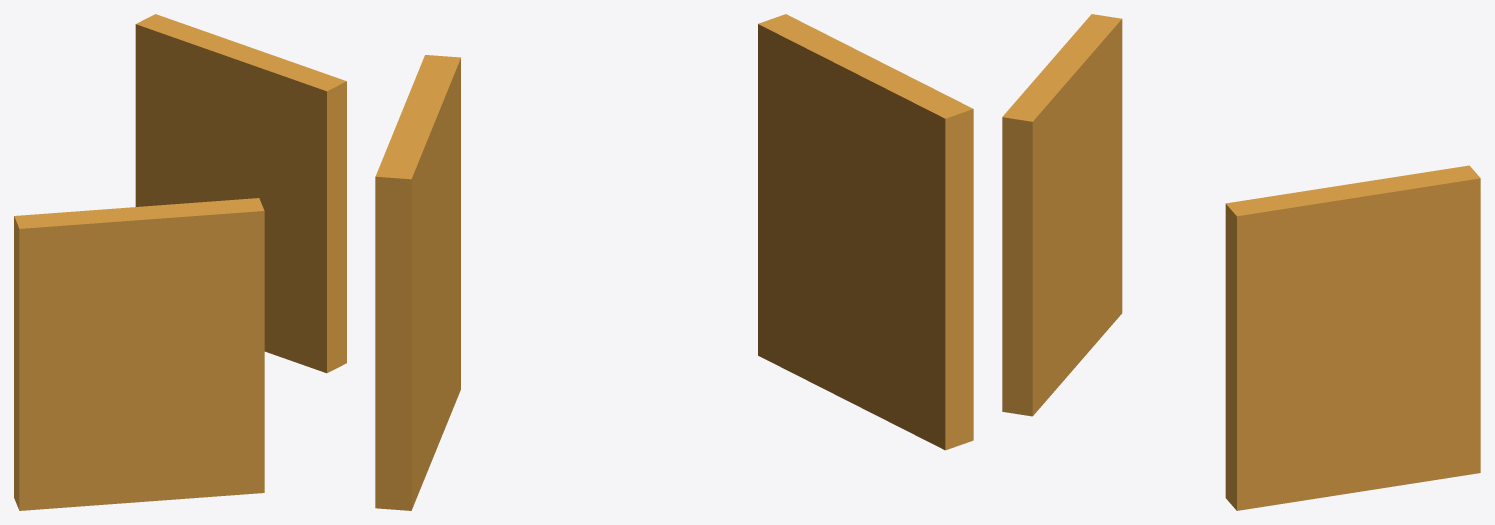
The model's file is tiles-bridge-pillars-curve.glb.
3 views of the same model, side by side, from view 1: azimuth 30°, elevation 25°; view 2: azimuth 150°, elevation 25°; view 3: azimuth 270°, elevation 25° (orthographic). The views are drawn at different scales.
Visible parts, largest first — view 1: bridge-pillars-curve; view 2: bridge-pillars-curve; view 3: bridge-pillars-curve.
Part boxes in pixels (x1,y1,x2,y2): bridge-pillars-curve: (14, 14, 346, 510); bridge-pillars-curve: (375, 14, 973, 510); bridge-pillars-curve: (1002, 14, 1480, 510).
Size of the model in its own units: 14.73 by 10 by 14.72.
